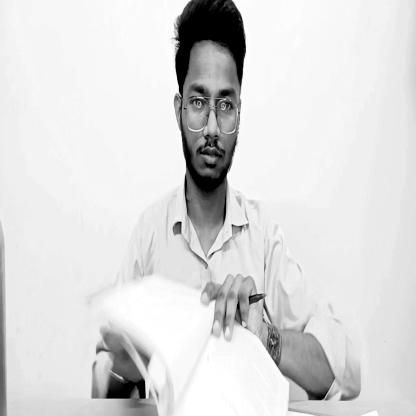Normal: (173, 3, 252, 193)
